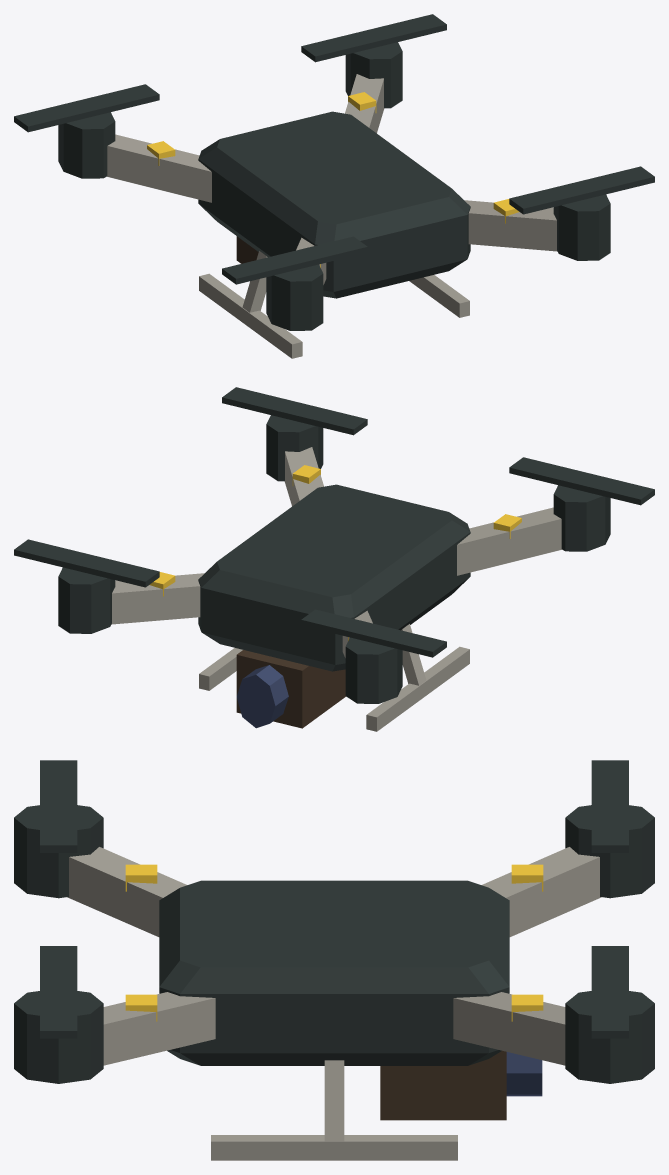
Rendered from R07_Camera_Drone.fbx.
3 renders of one model, top to bottom at view 1: azimuth 30°, elevation 25°; view 2: azimuth 150°, elevation 25°; view 3: azimuth 270°, elevation 25°, orthographic. The views are drawn at different scales.
Parts seen in each view (by area): view 1: Body, Rotor_3, Rotor_4, Rotor_1, Rotor_2; view 2: Body, Gimbal, Rotor_1, Rotor_2, Rotor_3, Rotor_4; view 3: Body, Rotor_2, Rotor_4, Gimbal, Rotor_1, Rotor_3.
Boxes of the visible parts, x1,y1,x2,y2 form: Body: (107, 74, 557, 358); Rotor_3: (222, 236, 367, 330); Rotor_4: (509, 166, 654, 260); Rotor_1: (14, 84, 159, 178); Rotor_2: (301, 14, 446, 108); Body: (111, 447, 561, 731); Gimbal: (236, 650, 345, 728); Rotor_1: (301, 609, 446, 703); Rotor_2: (14, 539, 159, 633); Rotor_3: (509, 457, 654, 551); Rotor_4: (222, 387, 367, 481); Body: (67, 847, 601, 1160); Rotor_2: (565, 946, 654, 1083); Rotor_4: (14, 946, 103, 1083); Gimbal: (380, 1050, 542, 1120); Rotor_1: (565, 760, 654, 898); Rotor_3: (14, 760, 103, 898).
Bounding box in the file's own units: 1.4 × 0.5 × 1.4.
